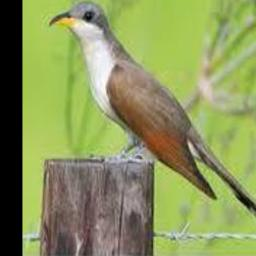Cuckoo: (50, 0, 256, 234)
